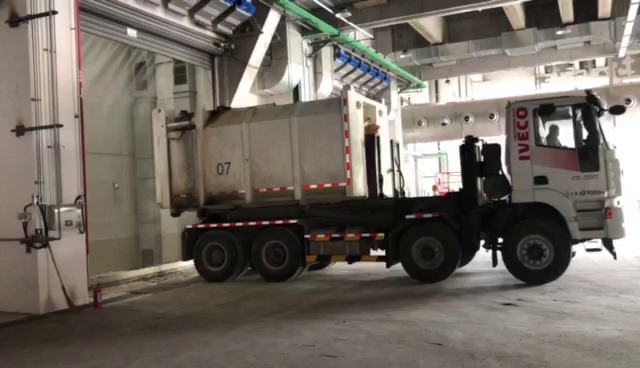truck: (162, 71, 629, 290)
